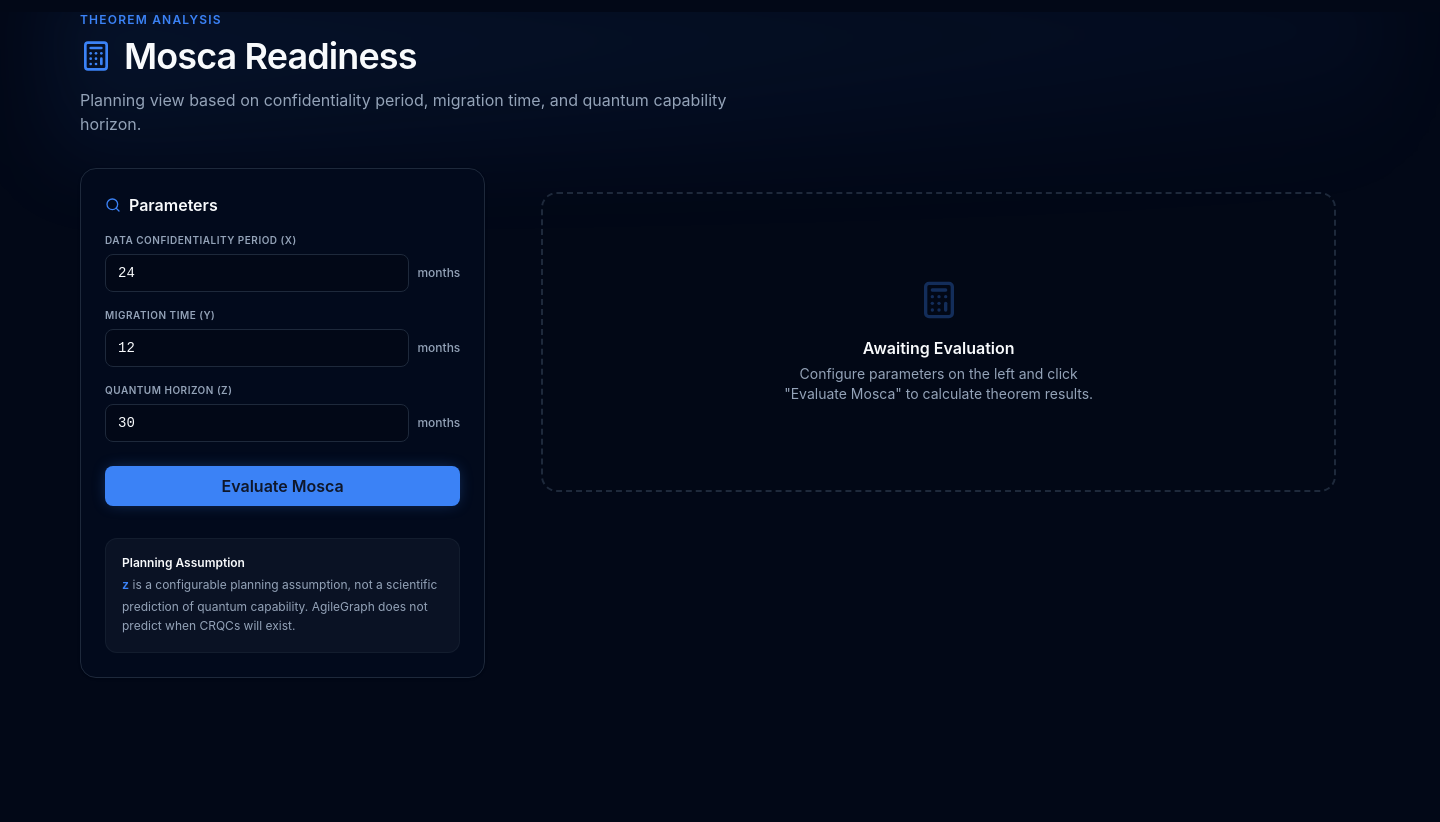
Product Layer Components › MoscaReadiness › 4. Mosca insufficient data renders correctly
What coordinates should you click on to do the following:
click the button "Evaluate Mosca"
I would click on:
 (283, 486)
Its box is [105,466,460,506].
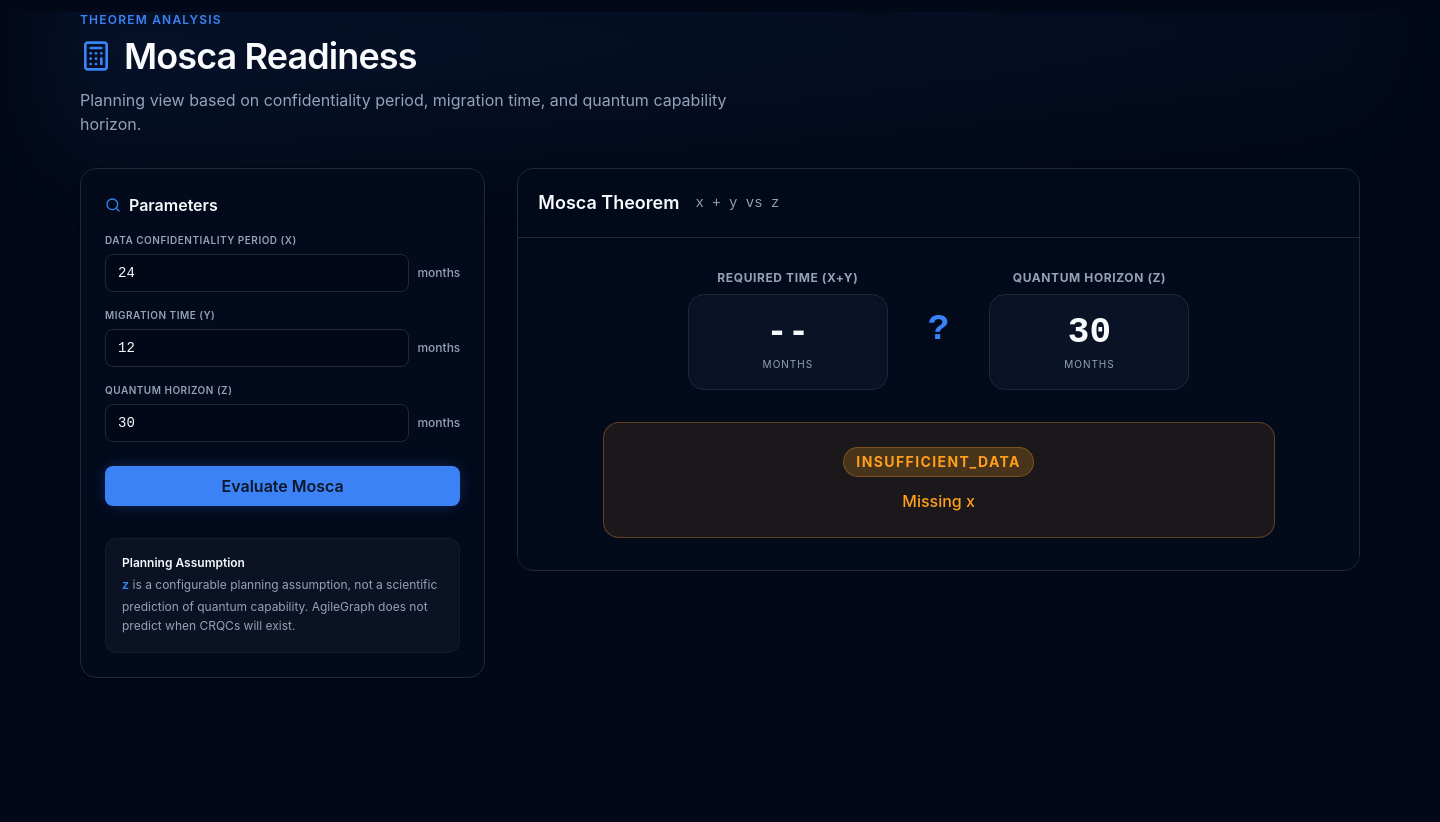
Result: the text "INSUFFICIENT_DATA" is shown at [843,447,1034,477]
